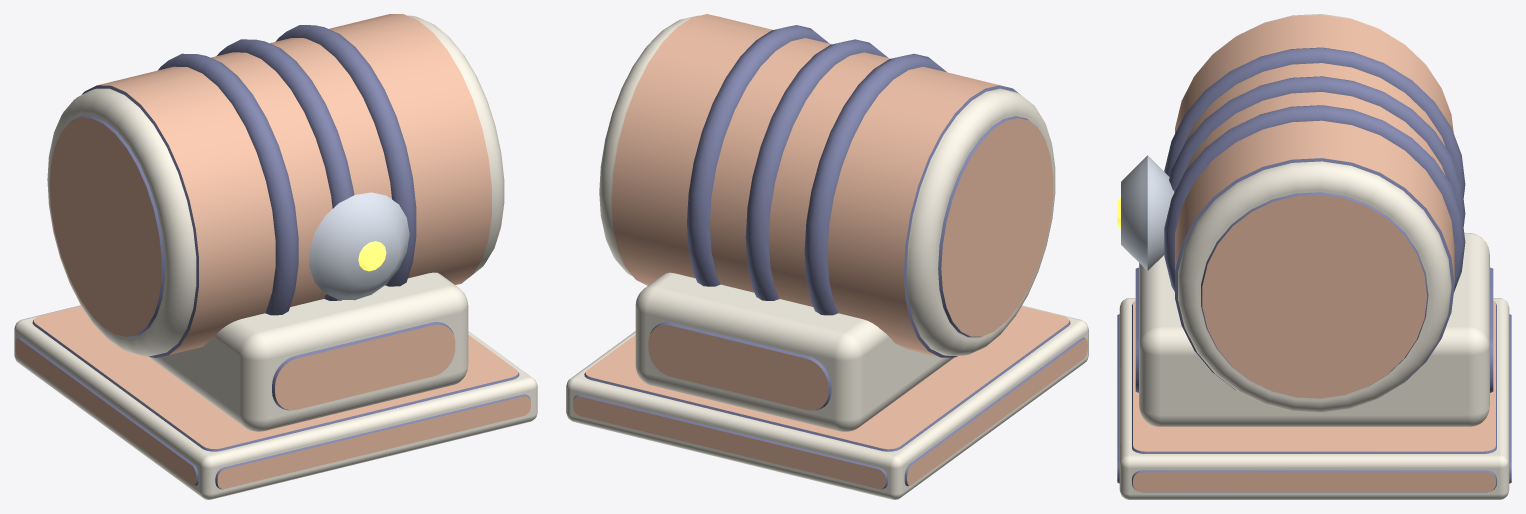
File: R4X_DrivePower.fbx
3 renders of one model, left to right at view 1: azimuth 30°, elevation 25°; view 2: azimuth 150°, elevation 25°; view 3: azimuth 270°, elevation 25°, orthographic.
Parts seen in each view (by area): view 1: R4X_DrivePower_Body; view 2: R4X_DrivePower_Body; view 3: R4X_DrivePower_Body.
Part boxes in pixels (box(x1,y1,x2,y2)): R4X_DrivePower_Body: box(14, 14, 537, 499); R4X_DrivePower_Body: box(566, 14, 1088, 499); R4X_DrivePower_Body: box(1117, 14, 1511, 499).
Bounding box in the file's own units: 0.52 × 0.5037 × 0.52.
